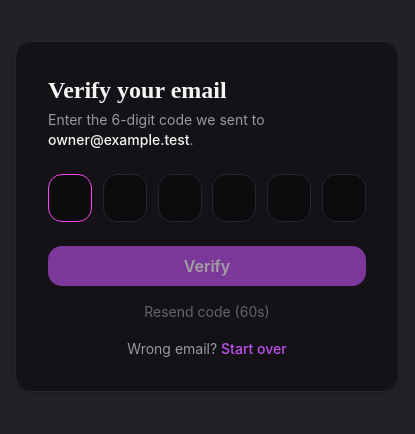
VerifyEmailPage › surfaces a server error and clears the code on a bad attempt
Type "1" into the field named "Digit 1".
click(70, 198); type("1")  # box 48,174 -> 92,222
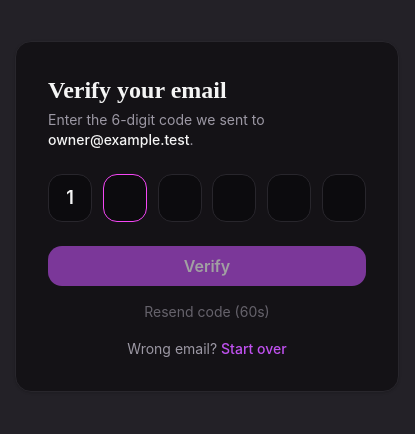
Type "1" into the field named "Digit 2".
click(125, 198); type("1")  # box 103,174 -> 147,222
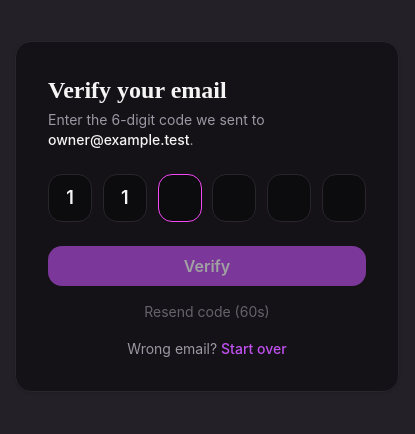
Type "1" into the field named "Digit 3".
click(180, 198); type("1")  # box 158,174 -> 202,222
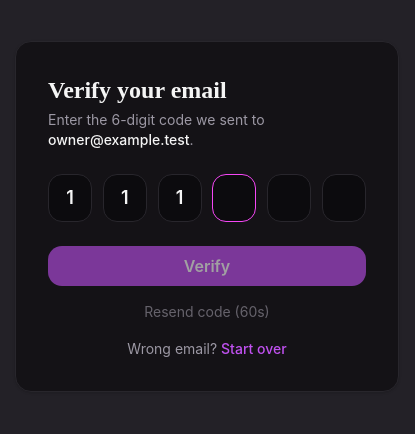
Type "1" into the field named "Digit 4".
click(234, 198); type("1")  # box 212,174 -> 256,222
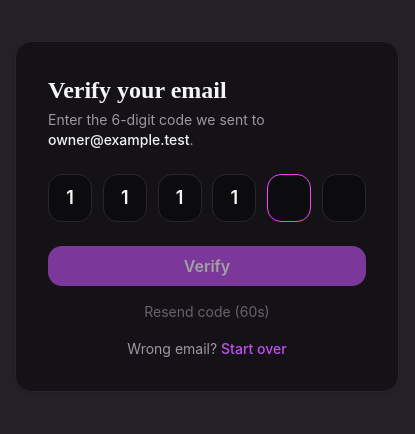
Type "1" into the field named "Digit 5".
click(289, 198); type("1")  # box 267,174 -> 311,222
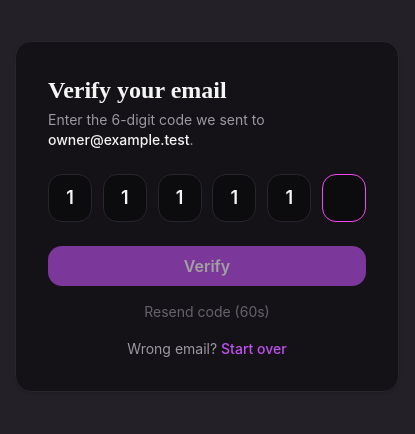
Type "1" into the field named "Digit 6".
click(344, 198); type("1")  # box 322,174 -> 366,222
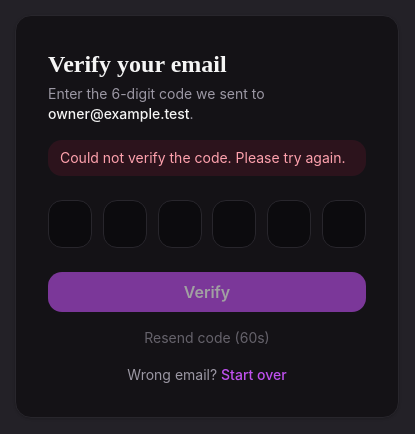
Expected: the text "Could not verify the code. Please try again." is shown, 48,140 -> 366,176
